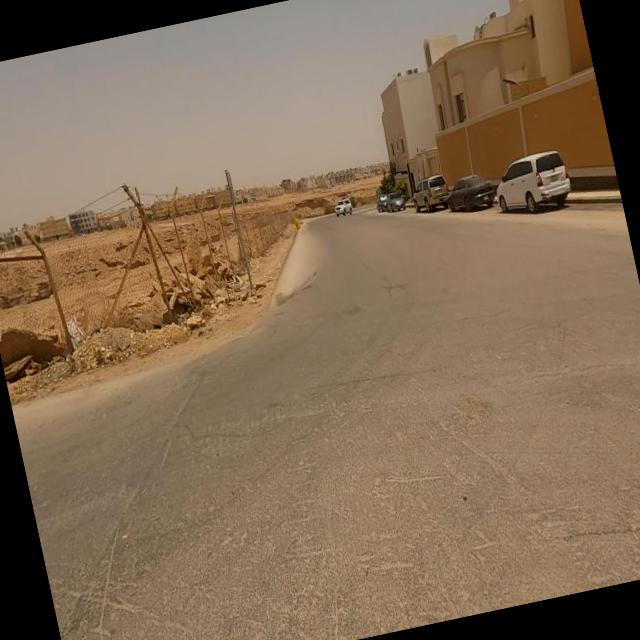debris: (46, 294, 110, 378), (107, 286, 169, 348)
